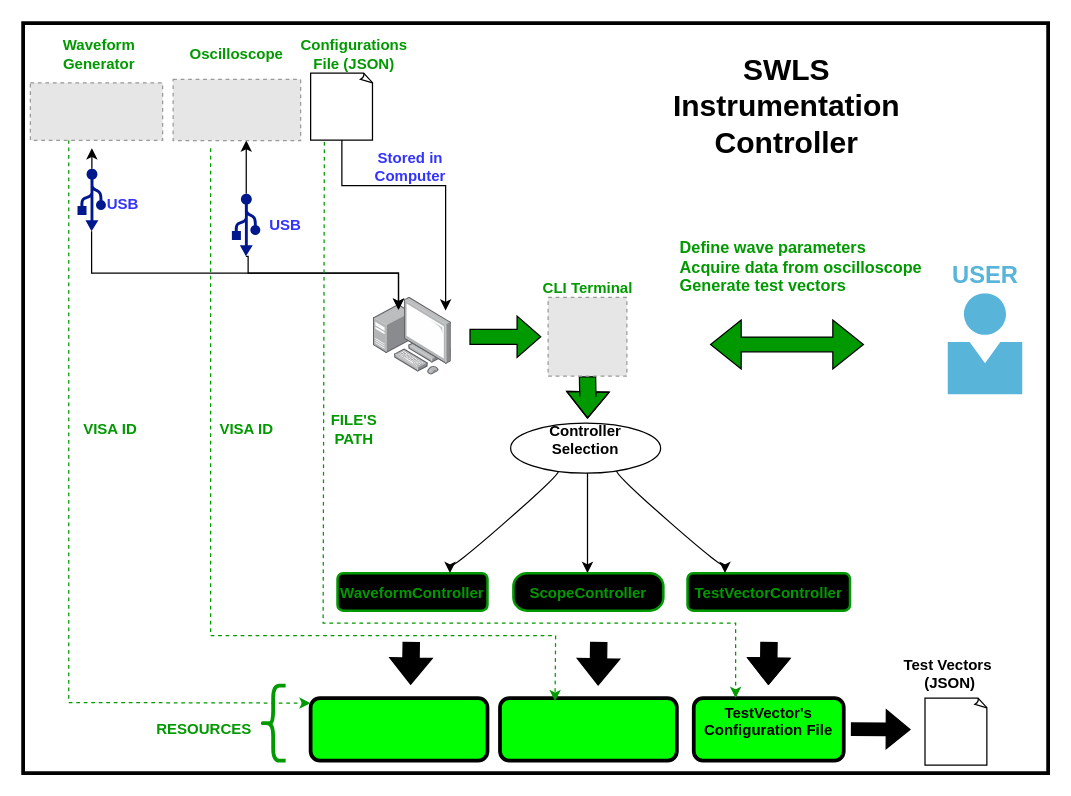
Some shapes in this 1071 by 796 pixel diagram are drawn without their labels. Grey dashed boxes stand in for pictures. The centre of each missing label's shape, as x and y in pixels:
"Oscilloscope's VISA ID" belongs at point 588,729.
"Waveform Generator's VISA ID" belongs at point 398,729.
